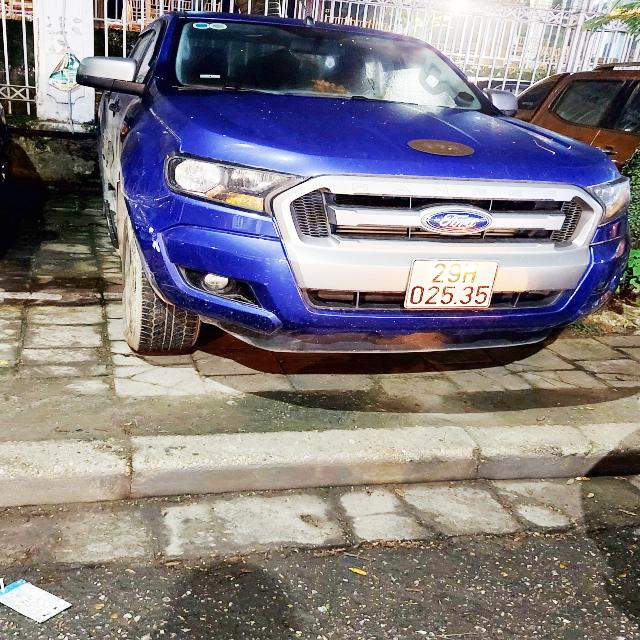license_plate: (403, 257, 508, 312)
